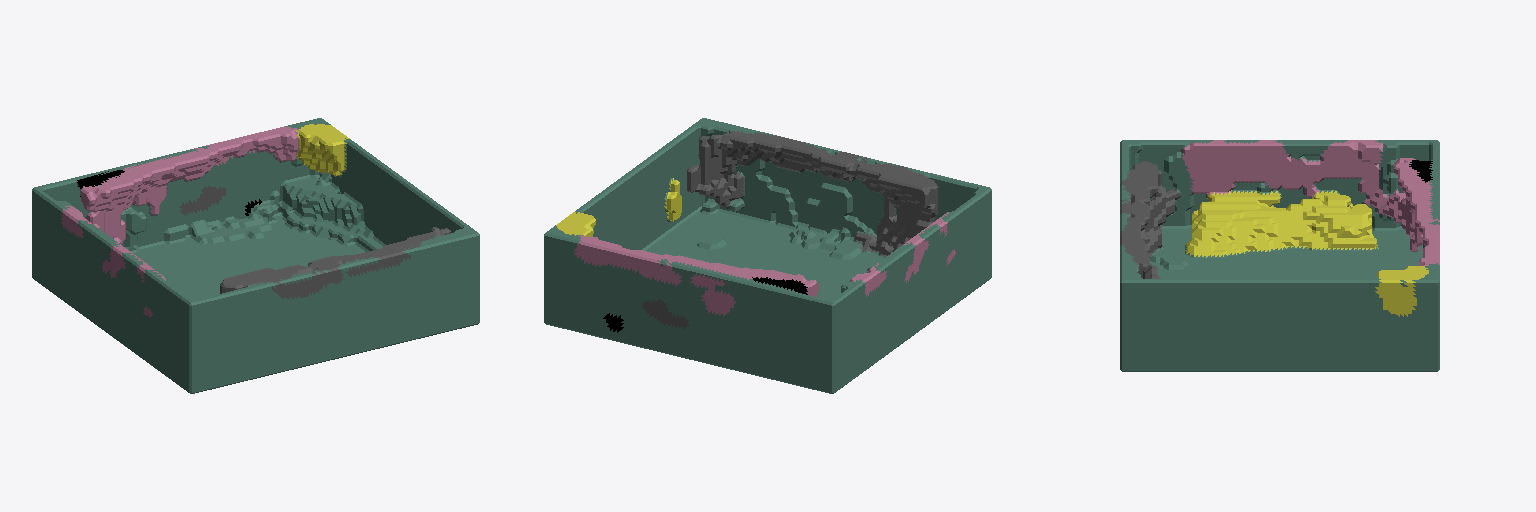
3 views of the same model, side by side, from view 1: azimuth 30°, elevation 25°; view 2: azimuth 150°, elevation 25°; view 3: azimuth 270°, elevation 25° (orthographic).
Visible parts, largest first — view 1: Input_prediction_mesh; view 2: Input_prediction_mesh; view 3: Input_prediction_mesh.
Part boxes in pixels (bbox=[...]): Input_prediction_mesh: bbox=[32, 118, 479, 393]; Input_prediction_mesh: bbox=[544, 118, 991, 393]; Input_prediction_mesh: bbox=[1120, 140, 1439, 371].
Size of the model in its own units: 6.4 by 1.92 by 6.08.